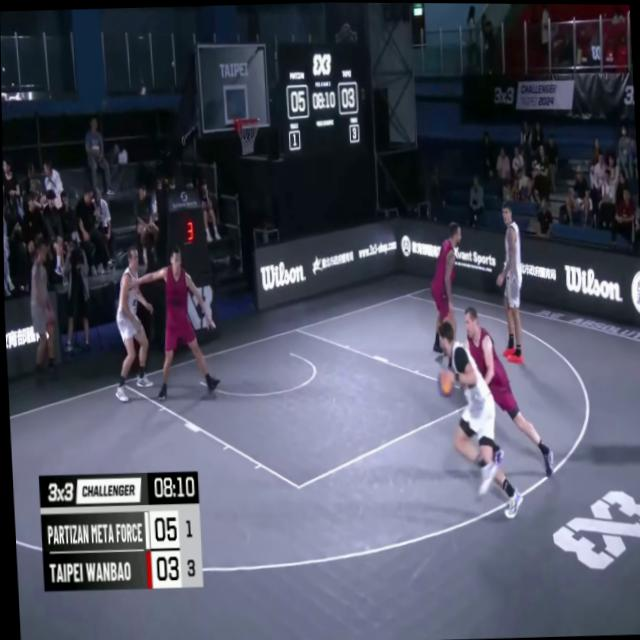ball: (433, 365, 454, 400)
hoop: (233, 114, 261, 163)
player: (446, 318, 551, 515), (450, 299, 554, 478), (143, 247, 223, 401), (107, 248, 157, 403), (423, 209, 466, 347), (491, 200, 525, 360)
